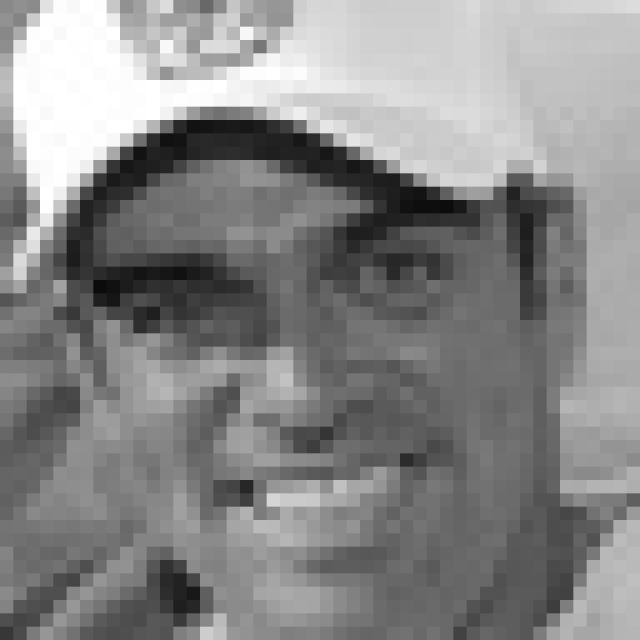happy: (88, 196, 482, 579)
